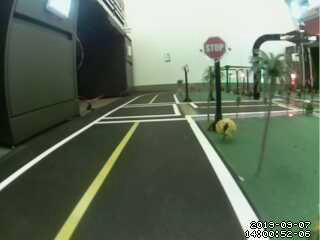Stop_Sign: (198, 28, 228, 65)
